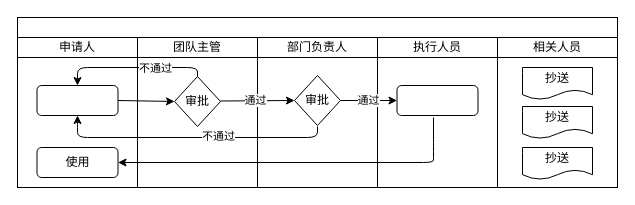
This 635x205 diagram has some shape labels left out. The centre of each missing label's shape, as x and y in pixels:
执行: pixel 437 100
数据操审批流程: pixel 317 27
申请: pixel 77 100
